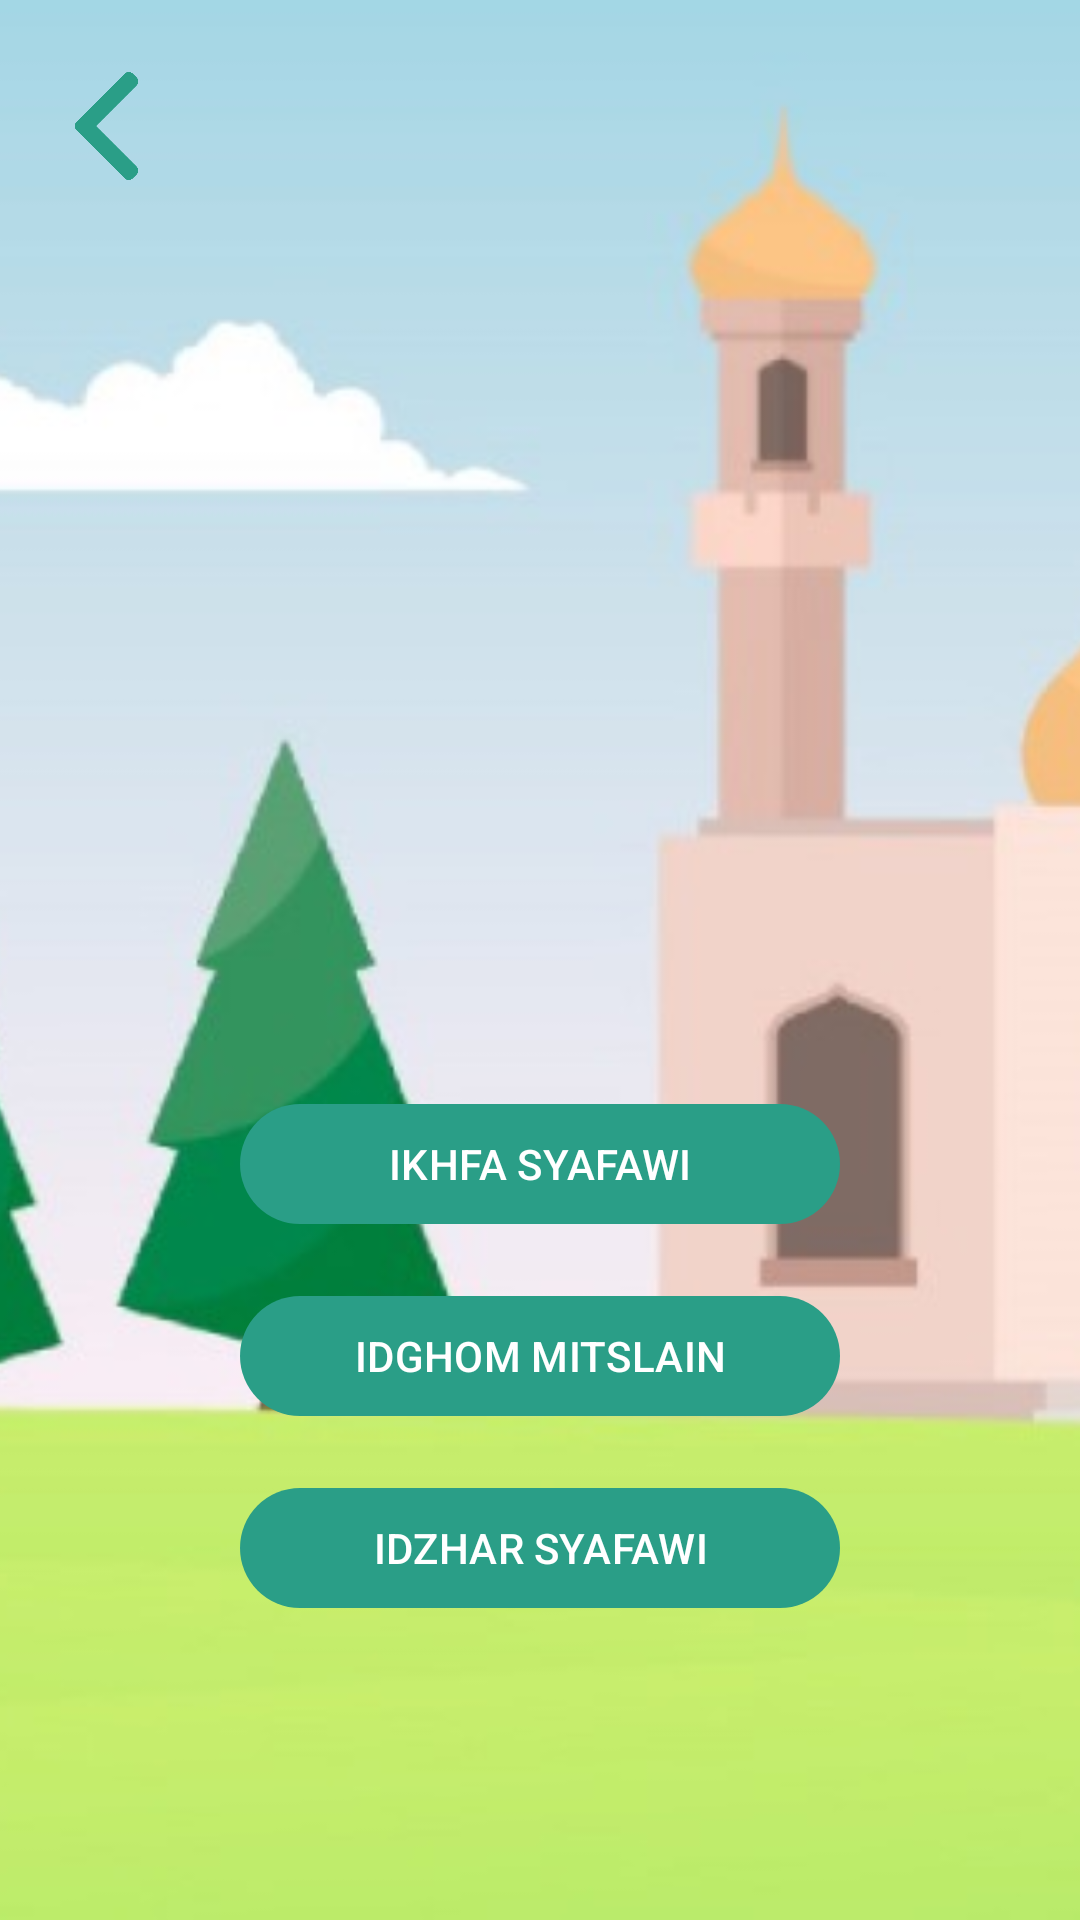

Named icons in this screenshot (1080×1920) and their centers, [x,y]:
Kembali: [106,126]
